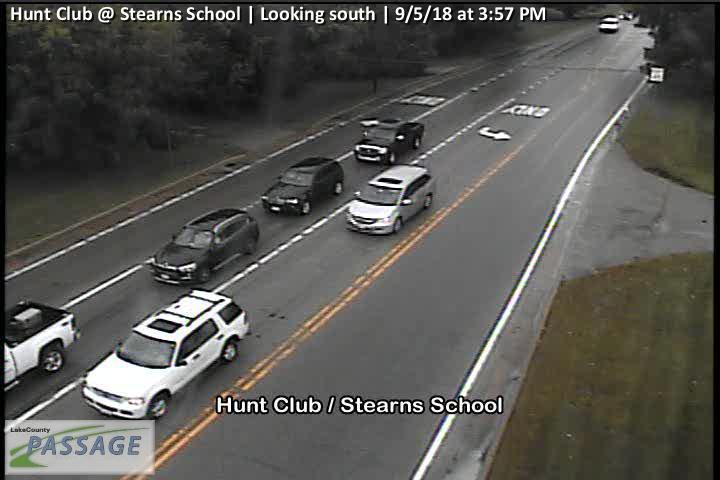SUV: (82, 287, 248, 422), (148, 209, 260, 285), (344, 165, 435, 235), (261, 156, 345, 217)
Truck: (1, 300, 81, 401), (353, 118, 427, 162)
